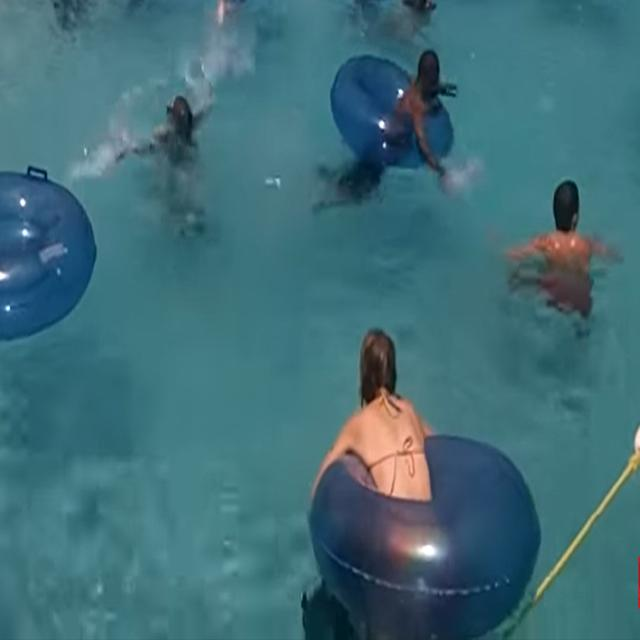Drowning: (96, 82, 219, 168)
Swimming: (304, 329, 436, 518), (337, 39, 459, 182), (509, 171, 622, 311)
